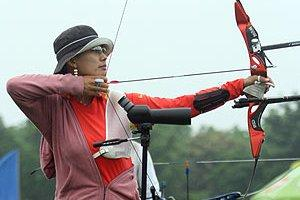person: (6, 25, 275, 200)
